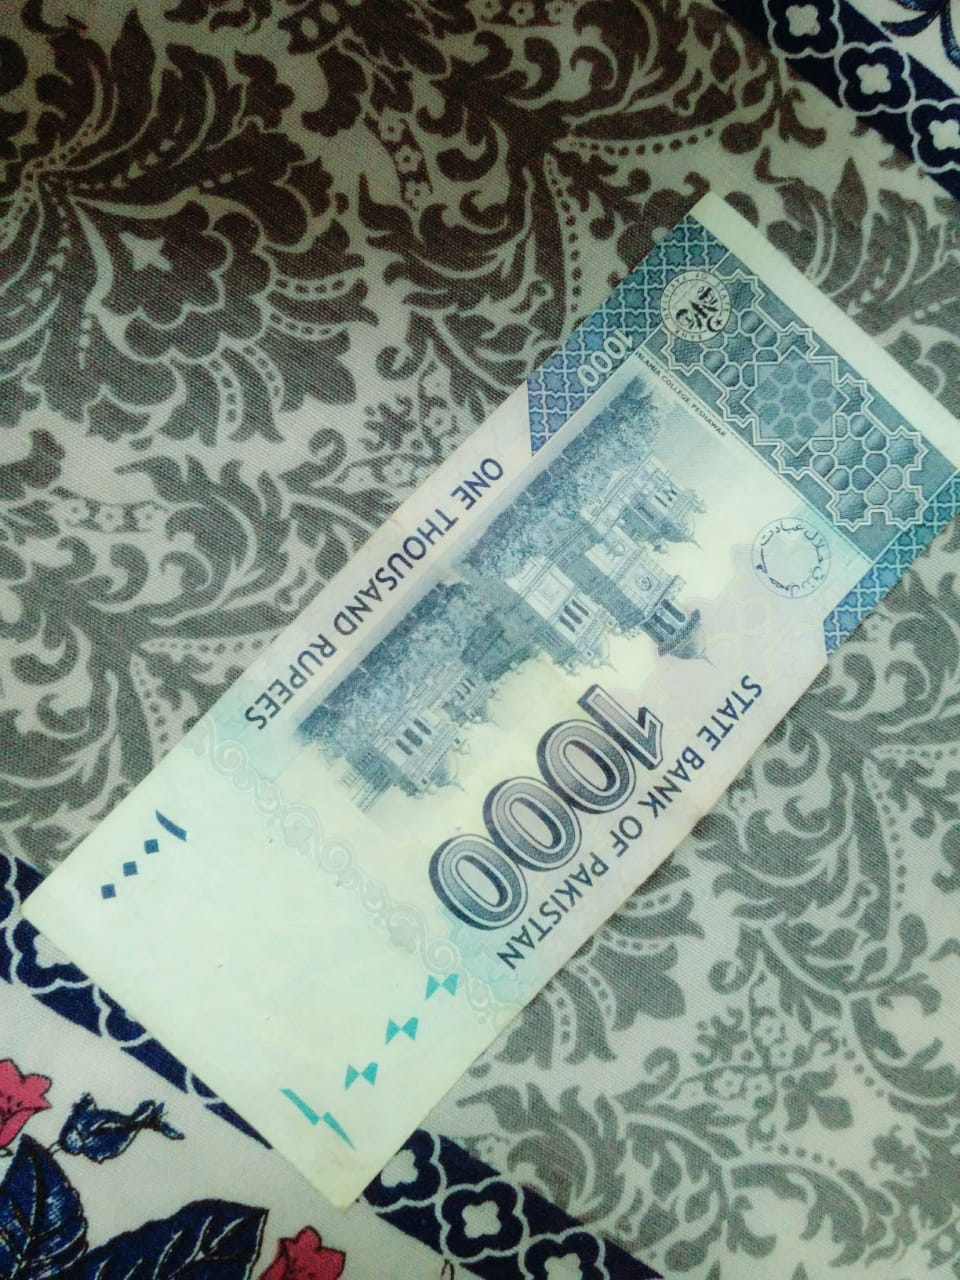1000 rupee: (12, 204, 938, 1198)
